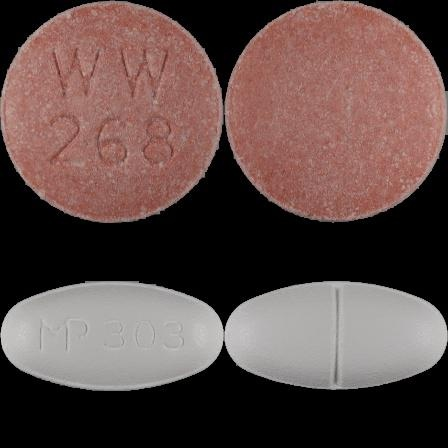50436-5000: (0, 0, 224, 224)
